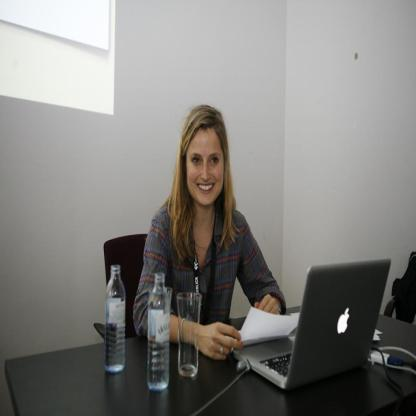board: (224, 265, 394, 393), (147, 274, 169, 392), (105, 264, 125, 374)
